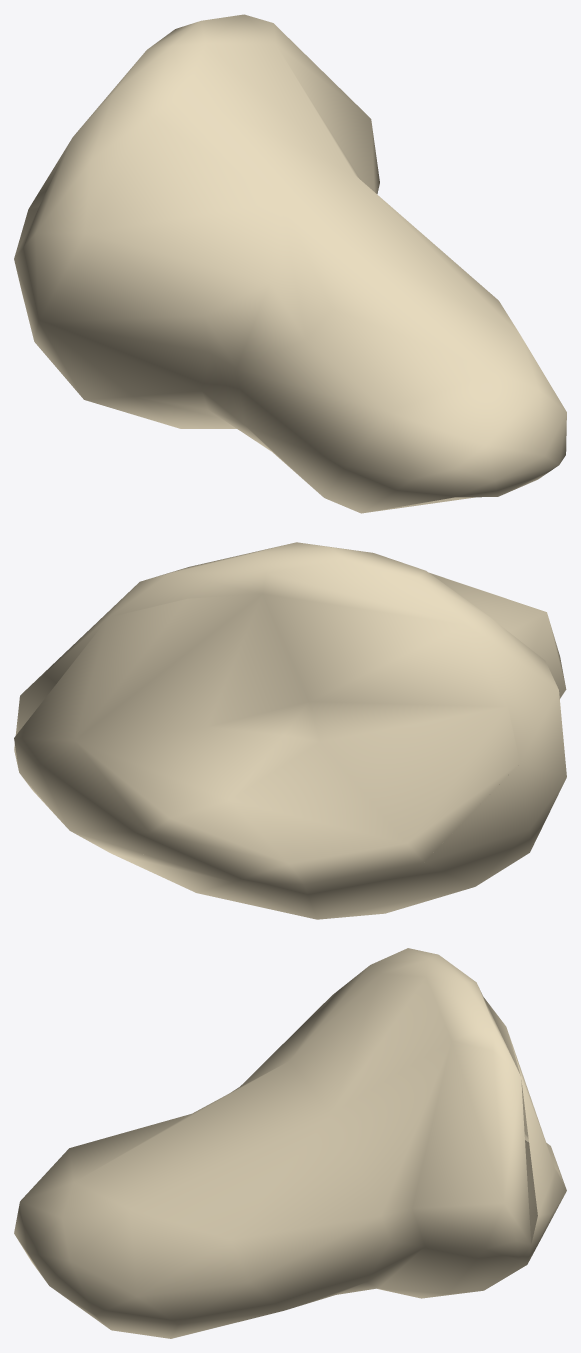
Rendered from esqueleto-distal-phalanx-of-fourth-finger-of-foot-l.glb.
3 renders of one model, top to bottom at view 1: azimuth 30°, elevation 25°; view 2: azimuth 150°, elevation 25°; view 3: azimuth 270°, elevation 25°, orthographic. The views are drawn at different scales.
Parts seen in each view (by area): view 1: Distal phalanx of fourth finger of foot.l; view 2: Distal phalanx of fourth finger of foot.l; view 3: Distal phalanx of fourth finger of foot.l.
Boxes of the visible parts, bbox=[...] form: Distal phalanx of fourth finger of foot.l: bbox=[14, 14, 566, 513]; Distal phalanx of fourth finger of foot.l: bbox=[14, 542, 566, 919]; Distal phalanx of fourth finger of foot.l: bbox=[14, 948, 566, 1338].
Bounding box in the file's own units: 0.00879 × 0.00733 × 0.0117.
